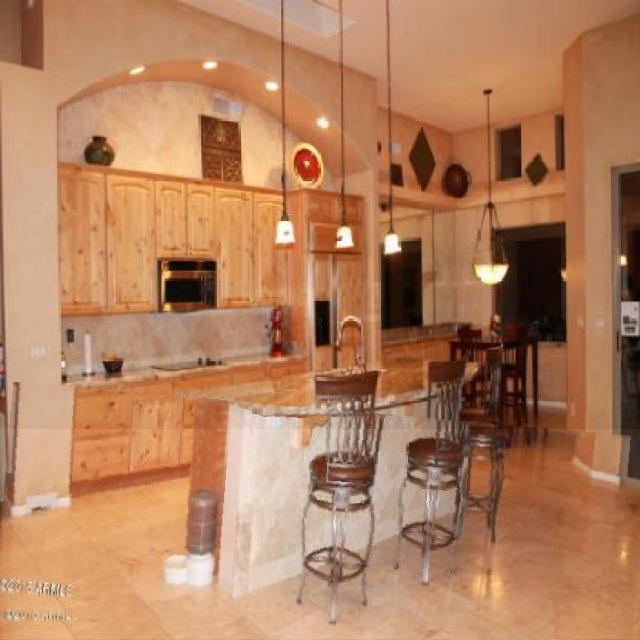floor: (0, 429, 640, 640)
